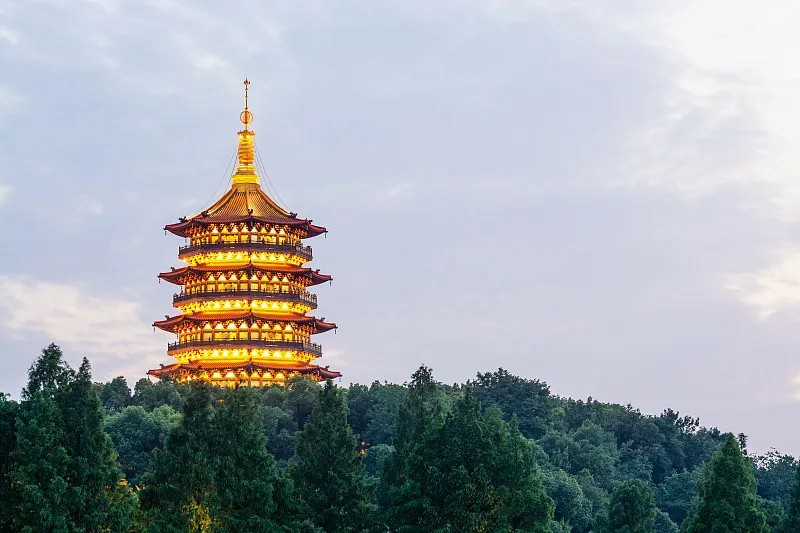Leifeng: (140, 76, 347, 393)
